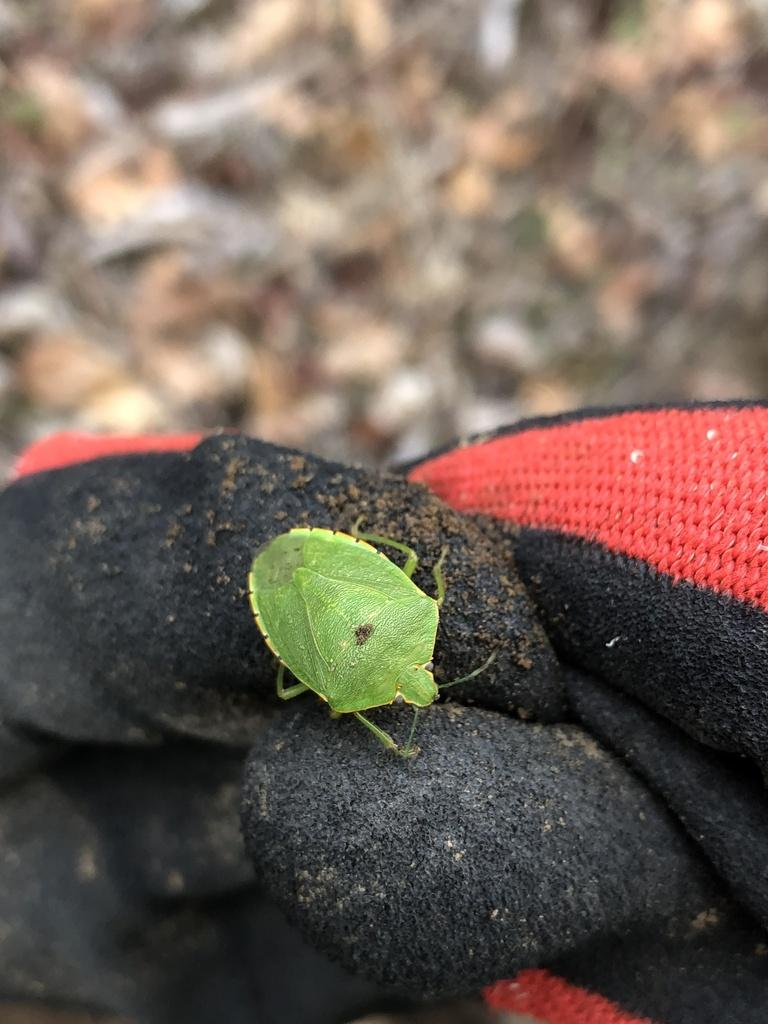stink_bugs: (191, 472, 529, 787)
